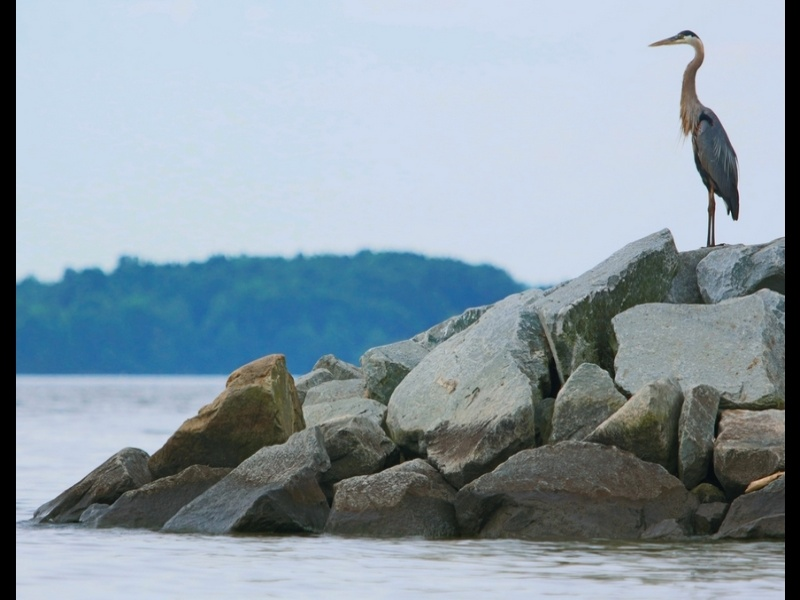heron: (648, 28, 741, 239)
